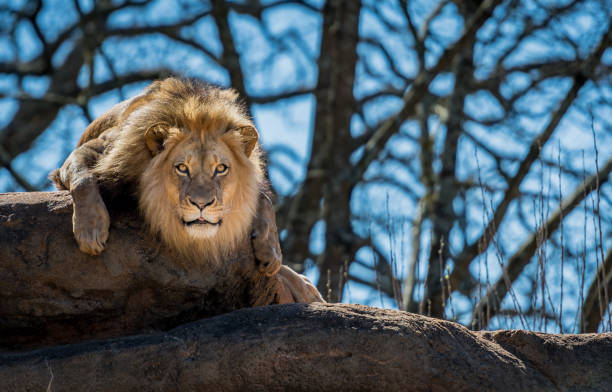lion: (91, 60, 291, 287)
